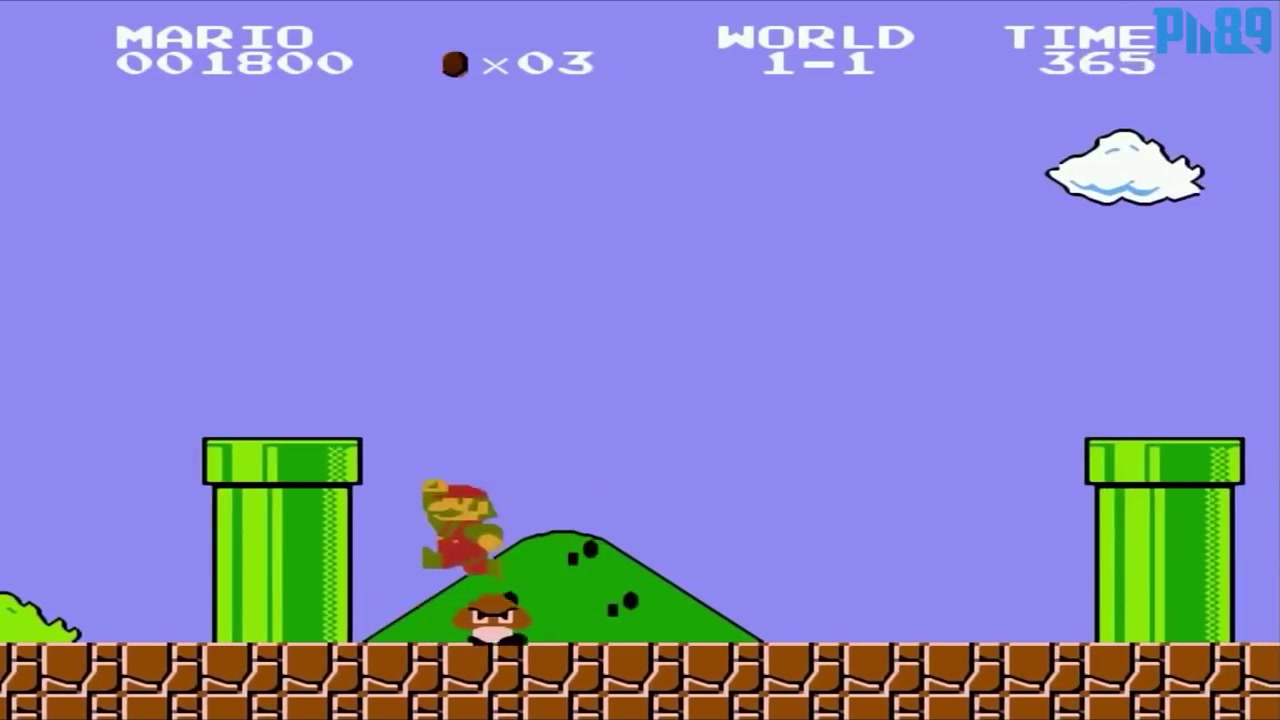mario: (416, 475, 504, 584)
